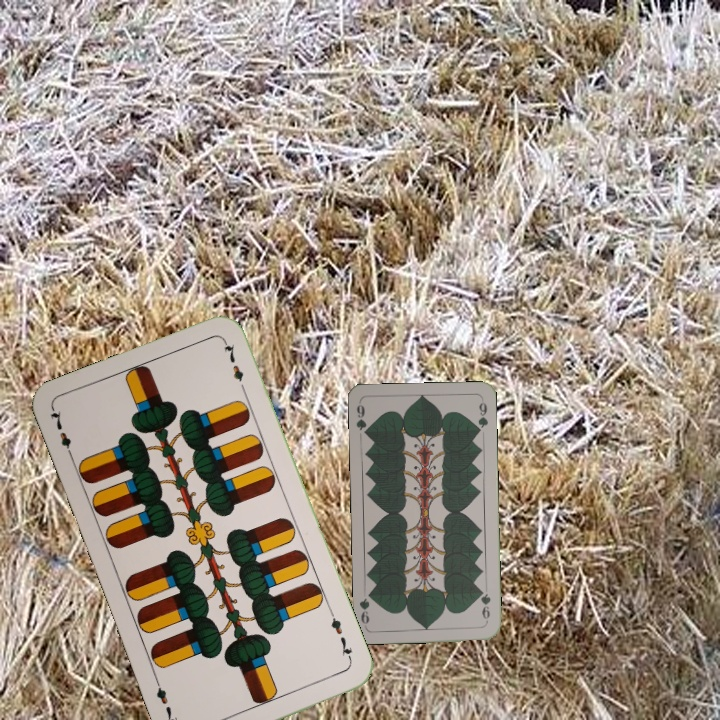E7: (46, 405, 77, 462), (326, 608, 355, 665)
G9: (352, 399, 372, 439), (476, 585, 493, 625)
